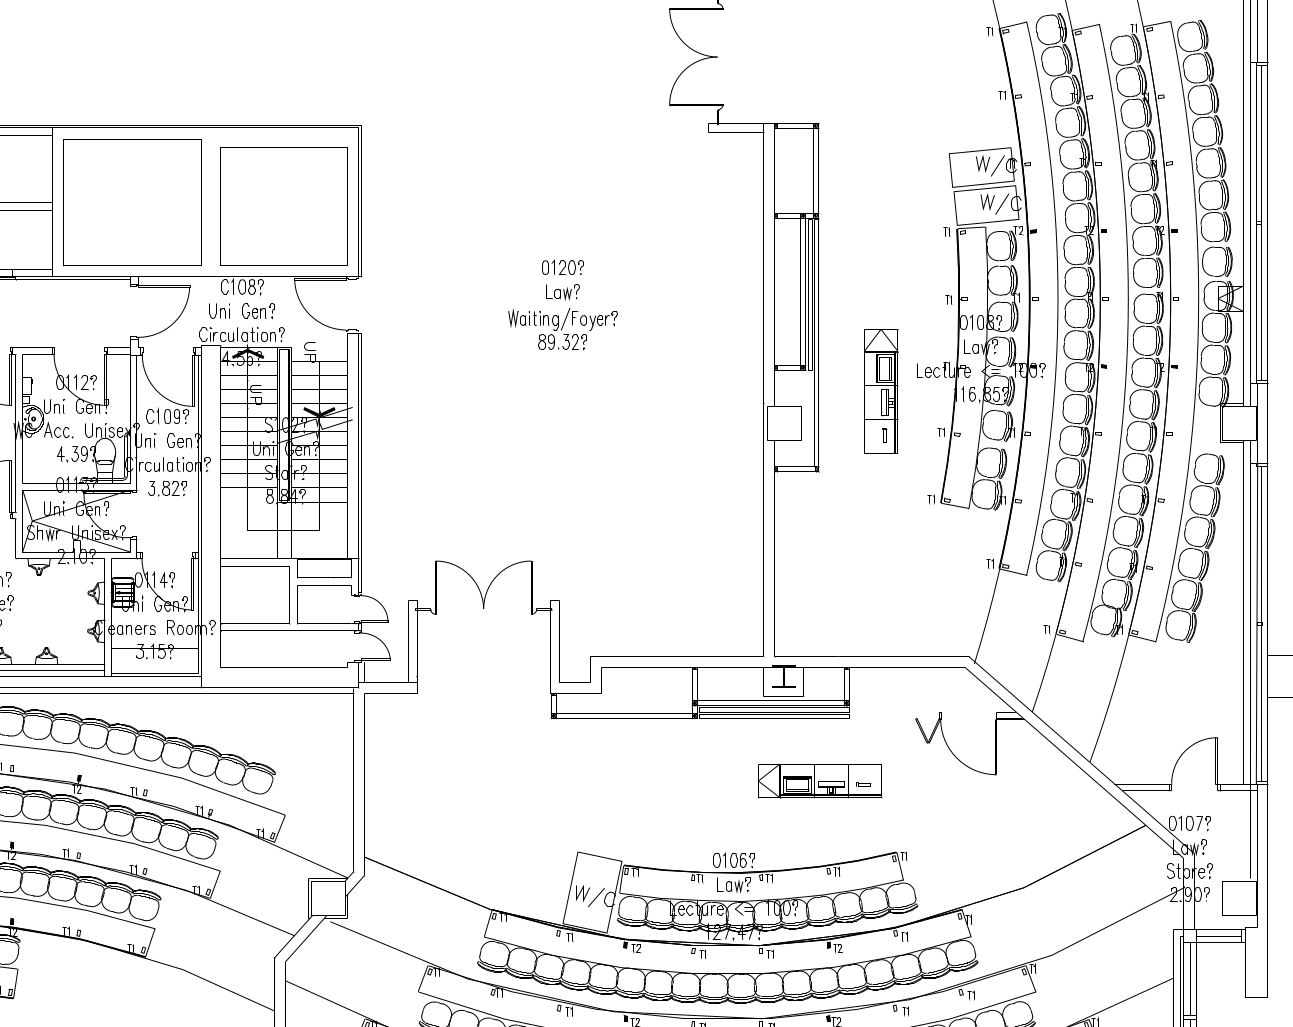door: (1164, 723, 1229, 797), (936, 708, 1001, 782), (136, 549, 196, 611), (130, 280, 194, 338), (287, 276, 351, 334), (133, 351, 197, 409), (50, 350, 114, 408), (482, 558, 536, 625), (430, 557, 484, 624), (665, 56, 723, 112), (664, 1, 722, 56), (358, 590, 395, 629), (358, 626, 395, 665)
